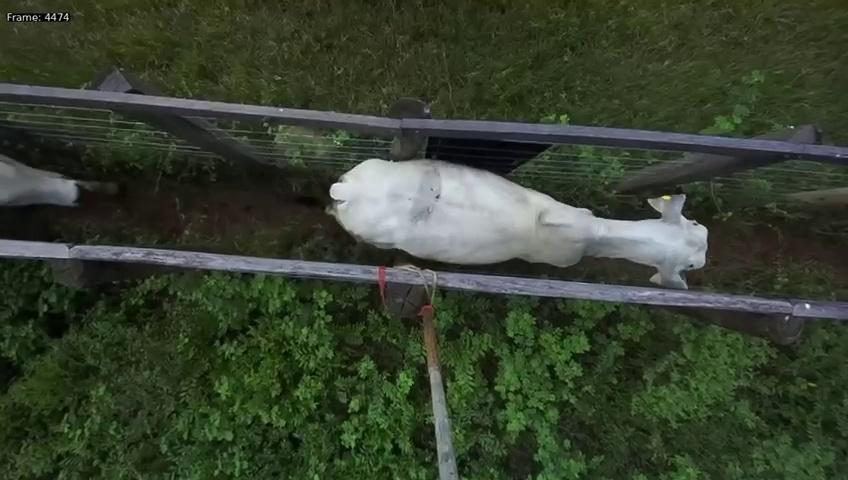cattle: (319, 136, 717, 299)
